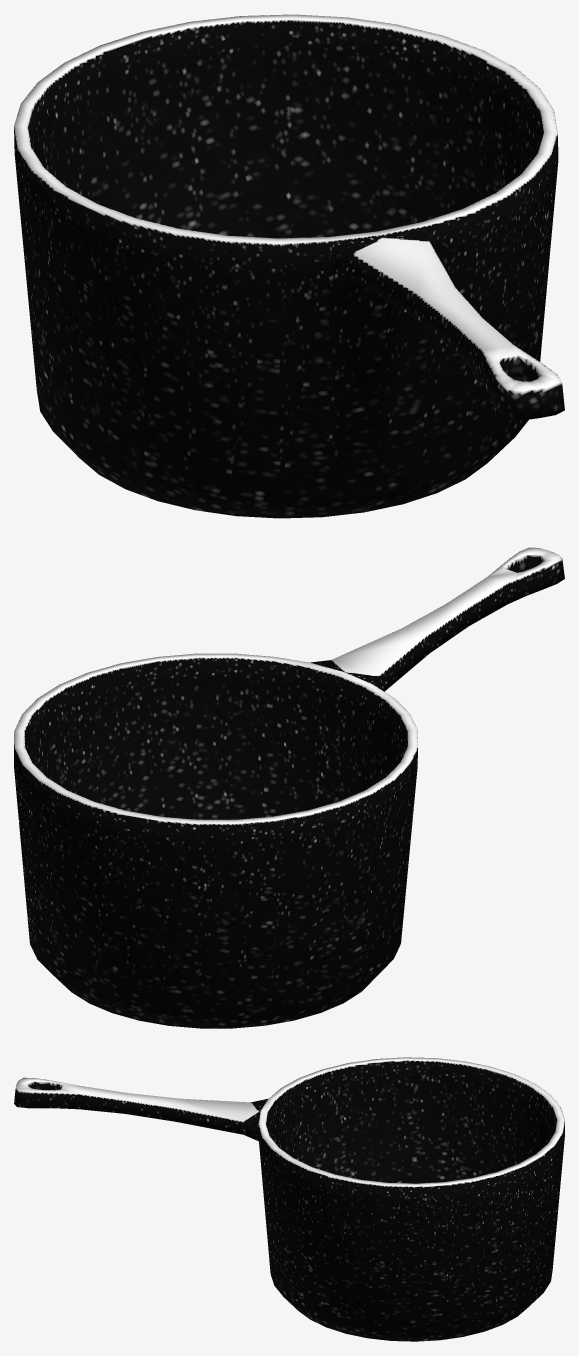
The model's file is pan.glb.
3 views of the same model, one above another, from view 1: azimuth 30°, elevation 25°; view 2: azimuth 150°, elevation 25°; view 3: azimuth 270°, elevation 25° (orthographic). The views are drawn at different scales.
Visible parts, largest first — view 1: pan; view 2: pan; view 3: pan.
Boxes of the visible parts, x1,y1,x2,y2 form: pan: (14, 14, 564, 518); pan: (14, 547, 564, 1028); pan: (14, 1057, 564, 1341).
Bounding box in the file's own units: 7.65 × 4.9 × 13.73.
Materials: 1 (1 with a texture image).
